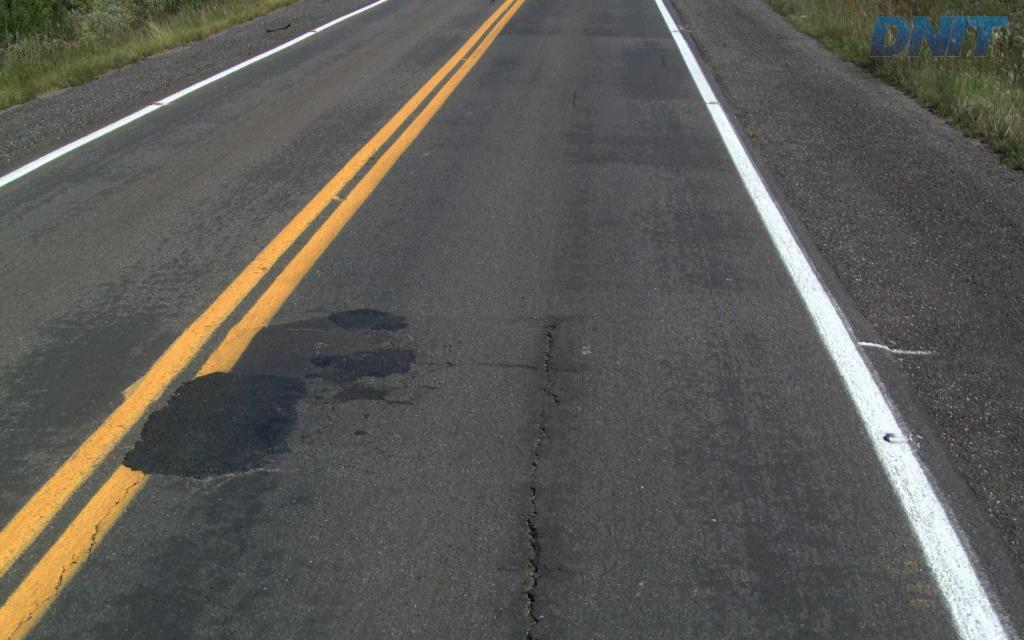crack: (520, 486, 563, 628)
